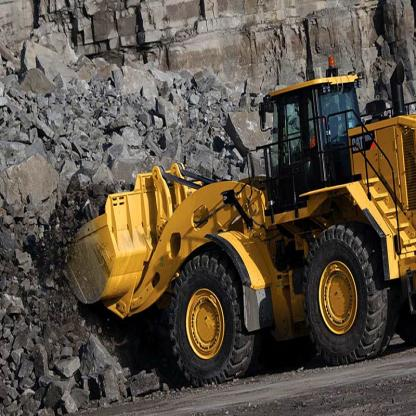bull_dozer/loader/grader: (56, 61, 416, 382)
